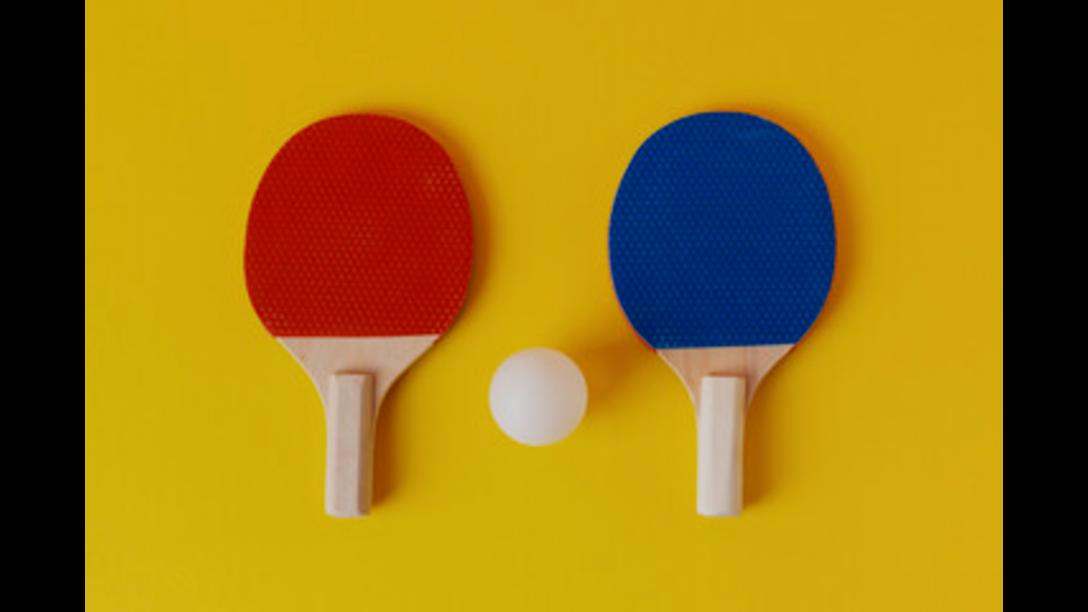Table-Tennis-Ball: (489, 349, 587, 445)
